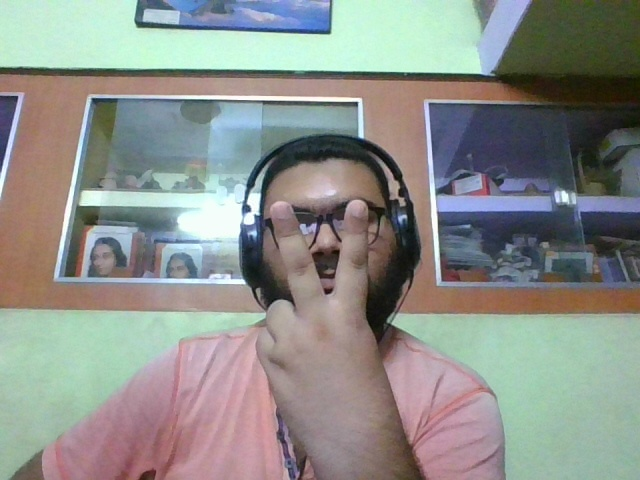iloveyou: (253, 199, 394, 420)
